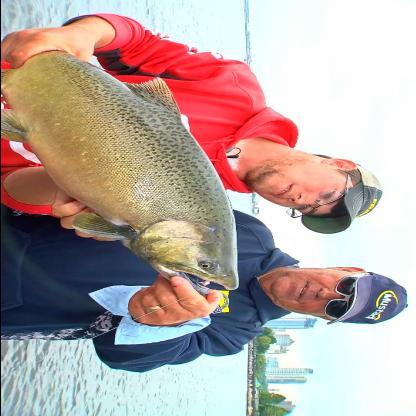fish: (2, 40, 242, 296)
